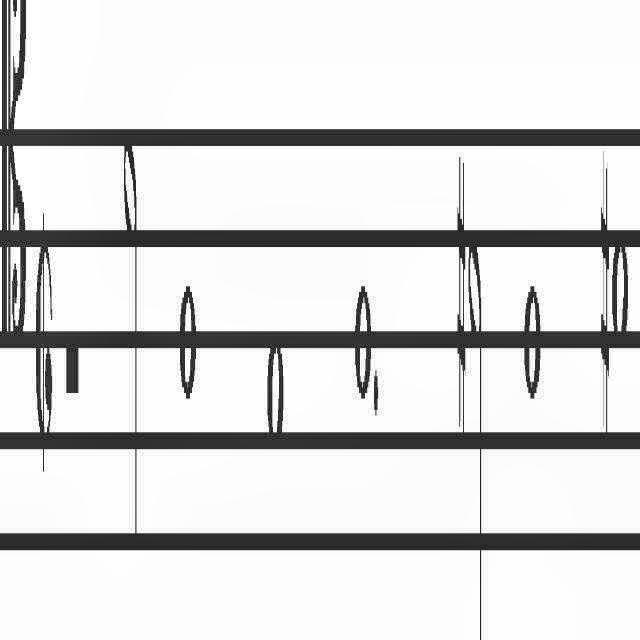Diez: (600, 142, 610, 448), (456, 164, 466, 448)
Full-note: (178, 262, 198, 412), (354, 272, 372, 408), (524, 282, 542, 410), (266, 328, 284, 452), (612, 237, 628, 353)
Half-note: (124, 121, 138, 556), (467, 230, 481, 640)
